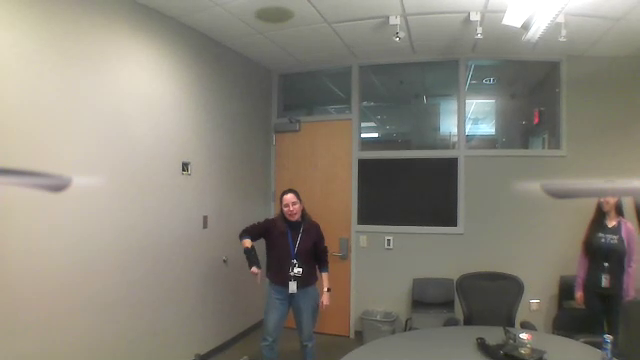down: (247, 261, 267, 290)
